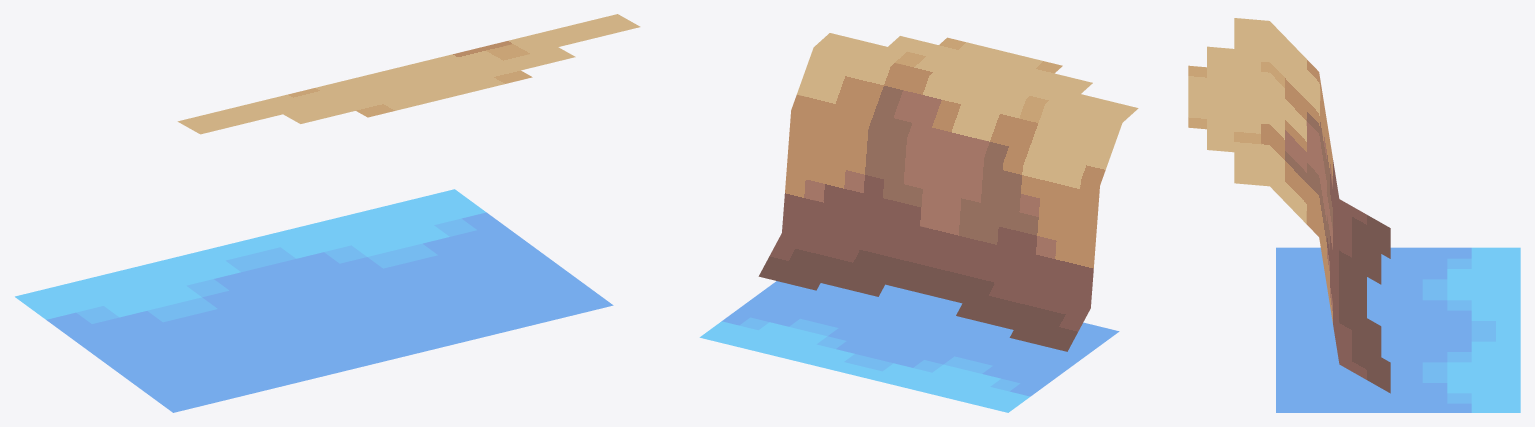
File: berge-mare-rom-38.glb
The picture shows the model from 3 angles, left to right: view 1: azimuth 30°, elevation 25°; view 2: azimuth 150°, elevation 25°; view 3: azimuth 270°, elevation 25°; orthographic projection. The views are drawn at different scales.
Bounding box in the file's own units: 1 × 0.6582 × 0.8486.
Materials: 2 (2 with a texture image).
